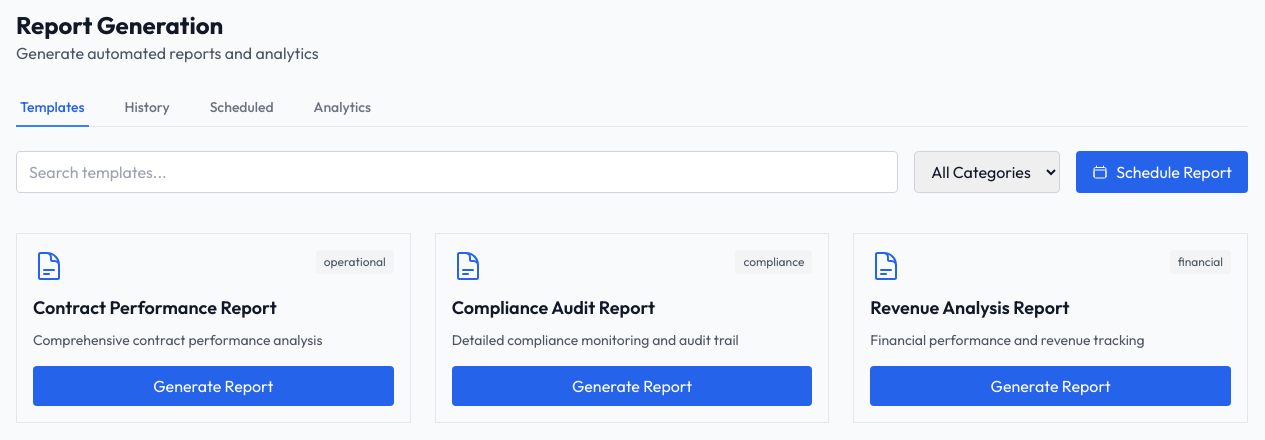
Test case: ReportGenerationSystem › Report History › should display report history
Click the tab "History".
click(147, 108)  # box [120,89,174,127]
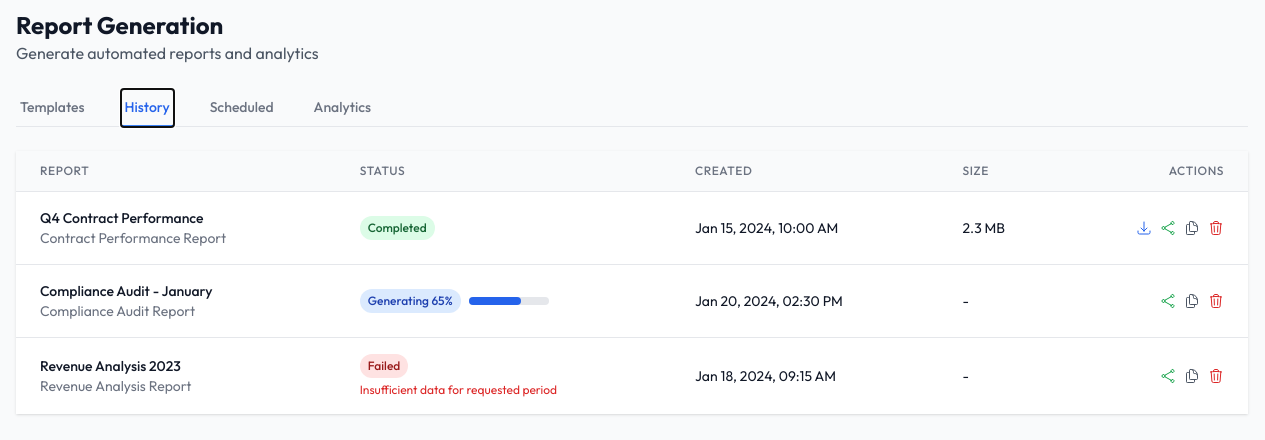
Now the text "Q4 Contract Performance" is shown, box [40,209,204,227]
Now the text "Compliance Audit - January" is shown, box [40,282,212,300]
Now the text "Revenue Analysis 2023" is shown, box [40,357,181,375]
